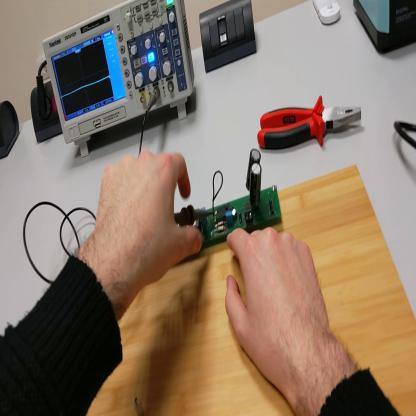hand: (225, 222, 334, 398), (94, 150, 202, 295)
high voltage board: (175, 151, 284, 249)
oscilloscope: (43, 2, 197, 157)
oscilloscope probe tip: (175, 204, 214, 228)
pliers: (257, 89, 365, 151)
socket: (30, 82, 63, 144), (2, 97, 21, 159)
welder station: (353, 1, 416, 55)
working area: (87, 168, 416, 415)
